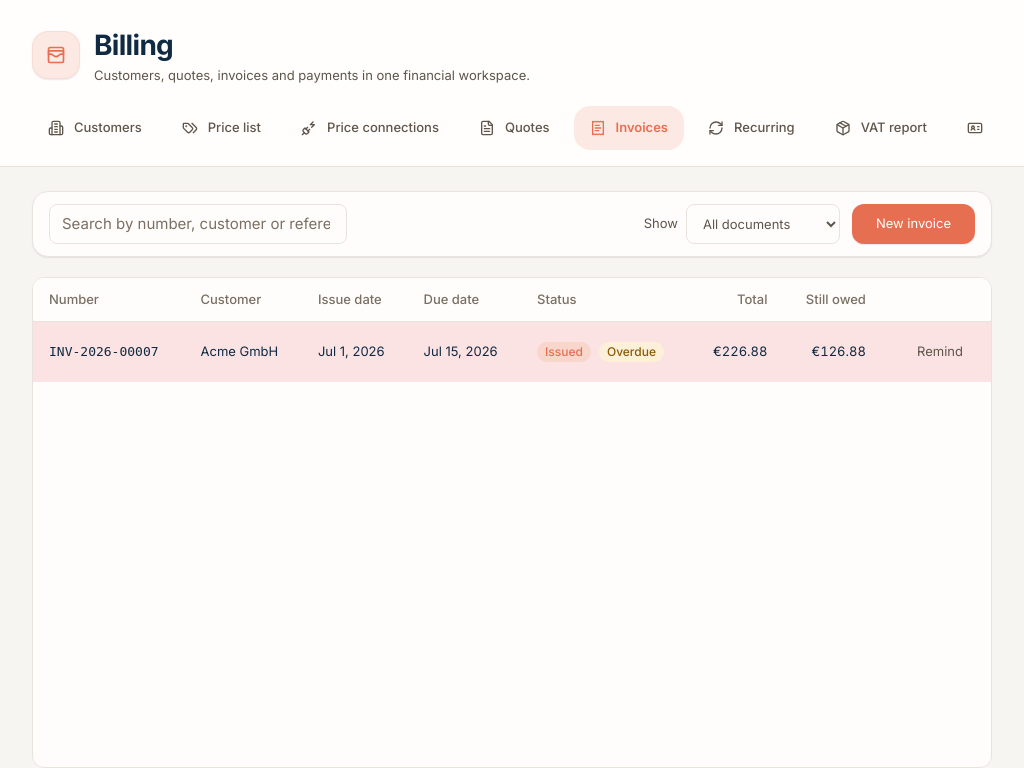
Test: chasing a late invoice from the list › one click writes the reminder, and the answer is the server's figures
Check: the text "INV-2026-00007" is shown, box [49,344,159,359]
Click the button "Remind": (940, 352) [905,334,975,370]
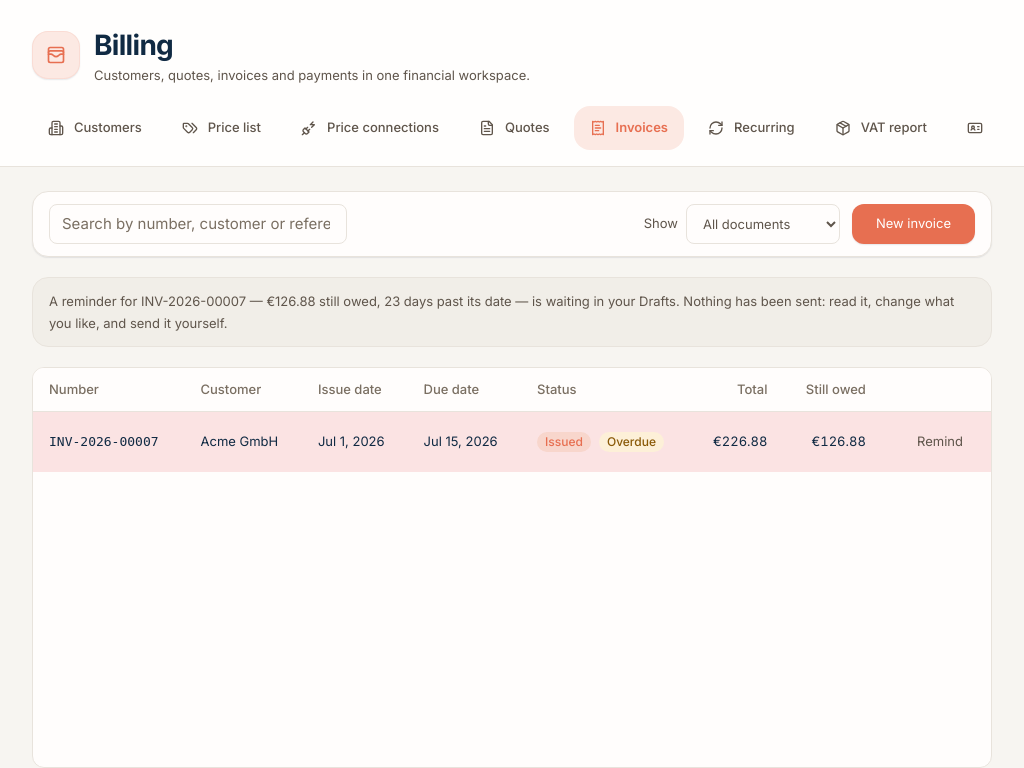
Check: the message shows "INV-2026-00007", box [49,292,954,331]
Check: the message shows "€126.88", box [49,292,954,331]
Check: the message shows "23 days", box [49,292,954,331]
